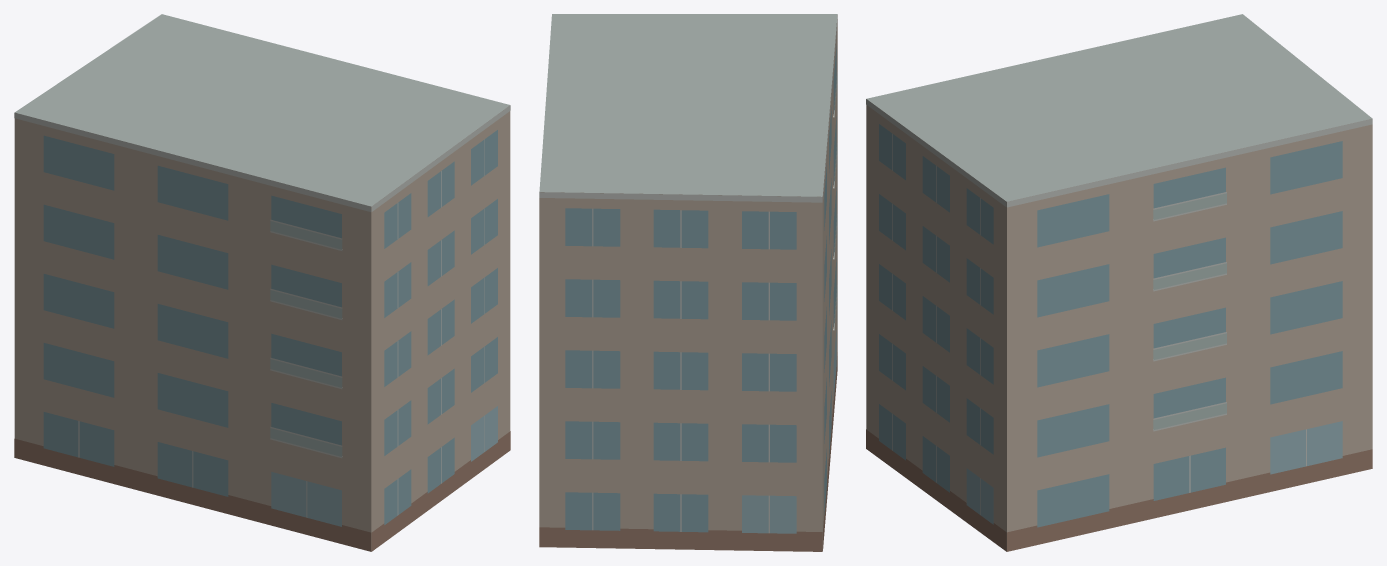
The model's file is survey-upis-32914976.glb.
3 renders of one model, left to right at view 1: azimuth 30°, elevation 25°; view 2: azimuth 150°, elevation 25°; view 3: azimuth 270°, elevation 25°, orthographic. The views are drawn at different scales.
Parts seen in each view (by area): view 1: survey-upis-32914976.tmp; view 2: survey-upis-32914976.tmp; view 3: survey-upis-32914976.tmp.
Part boxes in pixels (left/top/right/bottom): survey-upis-32914976.tmp: left=14, top=14, right=510, bottom=551; survey-upis-32914976.tmp: left=539, top=14, right=837, bottom=551; survey-upis-32914976.tmp: left=866, top=14, right=1372, bottom=551.
Size of the model in its own units: 17.04 by 14.8 by 19.42.
